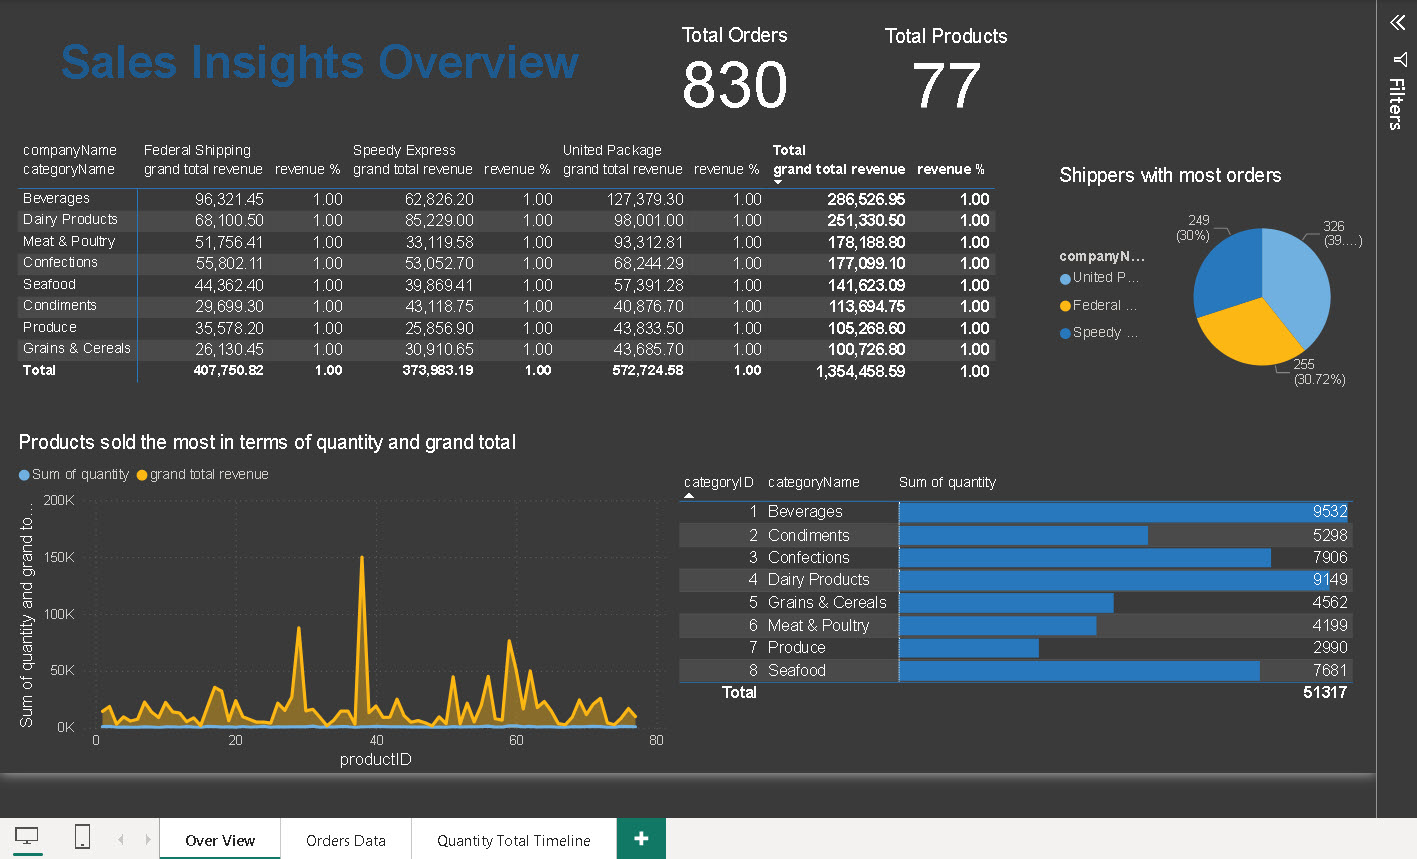

This screenshot's page, from the dashboard's own definition file:
{"tool":"powerbi","page":{"name":"Over View ","canvas":[1280,720],"ordinal":0},"visuals":[{"type":"pivotTable","fields":{"Rows":["categories.categoryName"],"Columns":["shippers.companyName"],"Values":["order_details.total revenue","order_details.revenue %"]},"box":[12.1,125.5,967.6,253.4],"z":0},{"type":"areaChart","title":"Products sold the most in terms of quantity and grand total","fields":{"Category":["order_details.productID"],"Y":["Sum(order_details.quantity)","order_details.grand total revenue"]},"box":[11.9,401.2,614.3,319],"z":1000},{"type":"tableEx","fields":{"Values":["products.categoryID","categories.categoryName","Sum(order_details.quantity)"]},"box":[626.1,434.3,641.8,253.4],"z":2000},{"type":"textbox","box":[50.7,27.7,524.8,72.4],"z":3000},{"type":"card","title":"Total Orders","fields":{"Values":["CountNonNull(orders.orderID)"]},"box":[594.8,21.7,177.3,83.2],"z":4000},{"type":"card","title":"Total Products","fields":{"Values":["CountNonNull(products.productID)"]},"box":[799.9,22.9,161.7,82],"z":5000},{"type":"pieChart","title":"Shippers with most orders","fields":{"Category":["shippers.companyName"],"Y":["CountNonNull(orders.orderID)"]},"box":[979.8,152.4,300,227.4],"z":6000}]}

Visuals, with their boxes on the page's 1280x720 design canvas (x1, y1, x2, y2). These are canvas units, not pixel positions in the 1417x859 screenshot, which may show the page scaled, cropped or inside an application window:
pivotTable - categories.categoryName x shippers.companyName: (left=12, top=126, right=980, bottom=379)
"Products sold the most in terms of quantity and grand total" areaChart: (left=12, top=401, right=626, bottom=720)
tableEx - products.categoryID x categories.categoryName: (left=626, top=434, right=1268, bottom=688)
textbox: (left=51, top=28, right=576, bottom=100)
"Total Orders" card: (left=595, top=22, right=772, bottom=105)
"Total Products" card: (left=800, top=23, right=962, bottom=105)
"Shippers with most orders" pieChart: (left=980, top=152, right=1280, bottom=380)
